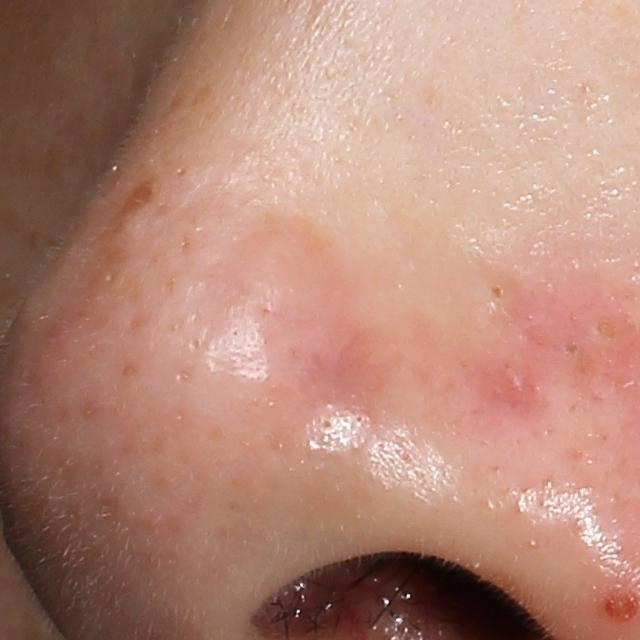comedo: (586, 312, 623, 354), (476, 277, 508, 310), (560, 331, 585, 363)
